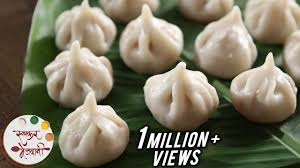modak: (52, 94, 138, 165), (45, 37, 119, 109), (225, 51, 300, 121), (115, 1, 189, 70), (142, 68, 217, 132), (196, 10, 260, 80), (51, 3, 128, 54)
